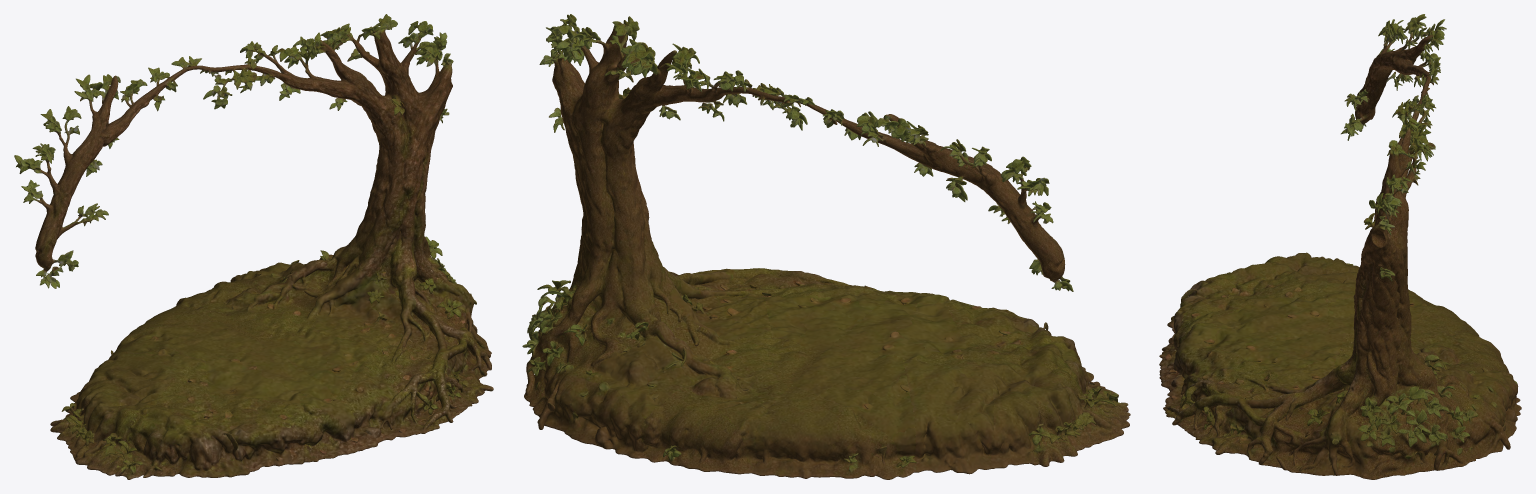
3 views of the same model, side by side, from view 1: azimuth 30°, elevation 25°; view 2: azimuth 150°, elevation 25°; view 3: azimuth 270°, elevation 25° (orthographic). The views are drawn at different scales.
Visible parts, largest first — view 1: mesh_node; view 2: mesh_node; view 3: mesh_node.
Boxes of the visible parts, box(x1,y1,x2,y2) form: mesh_node: box(14, 14, 493, 479); mesh_node: box(522, 14, 1130, 479); mesh_node: box(1159, 14, 1521, 479).
Bounding box in the file's own units: 1.9 × 1.28 × 1.39.
1 material, 1 textured.
